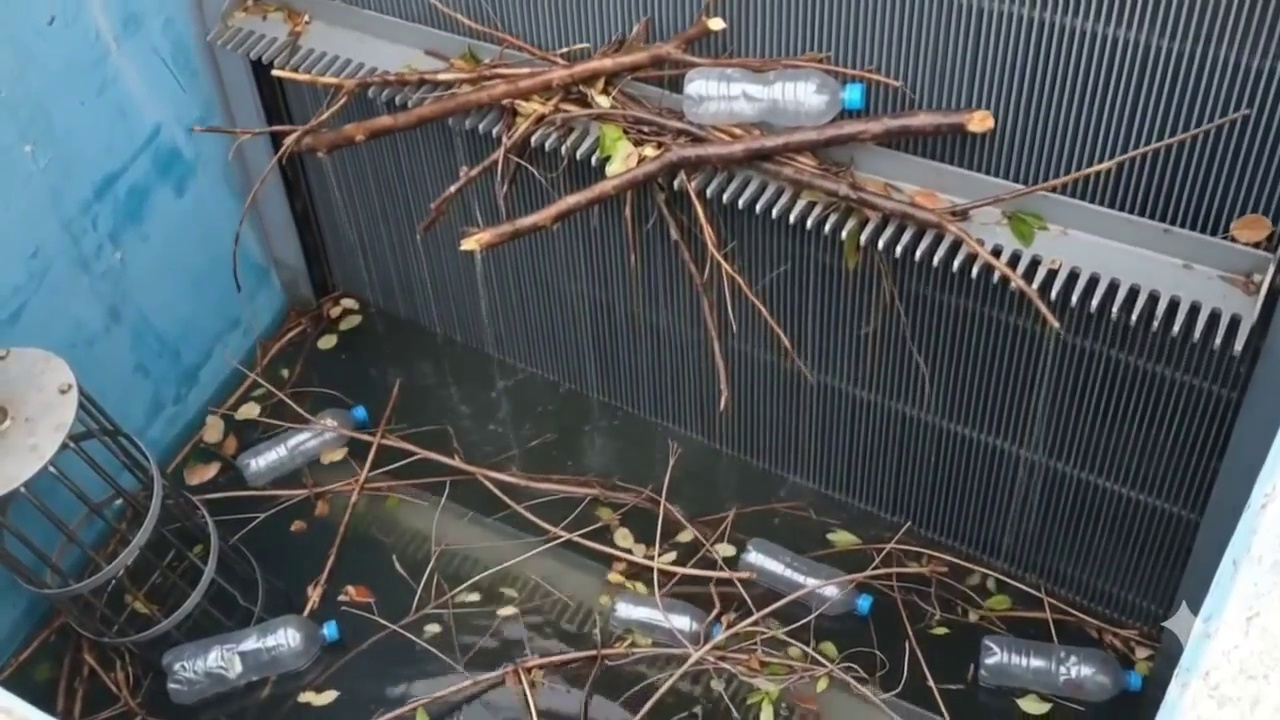debris: (272, 17, 1057, 325), (350, 432, 634, 532), (162, 615, 340, 703), (977, 635, 1143, 702), (236, 405, 368, 487), (738, 538, 874, 616), (607, 592, 726, 648), (638, 558, 749, 581), (575, 540, 625, 556)
